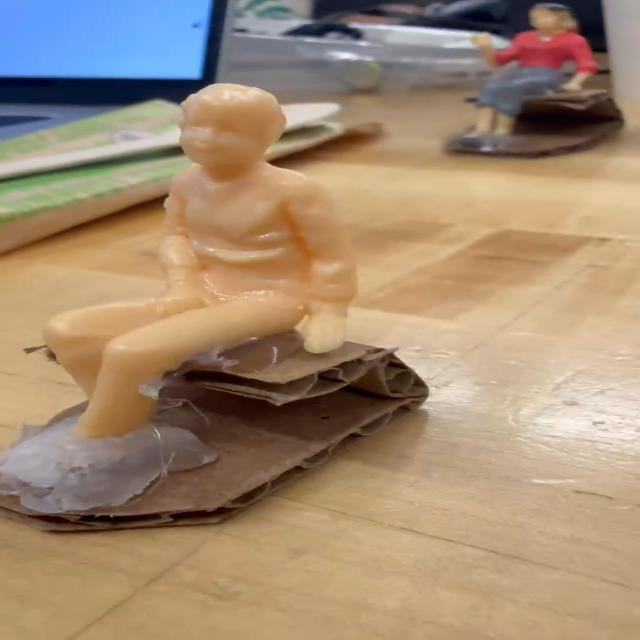Unauthorized: (33, 82, 366, 462)
